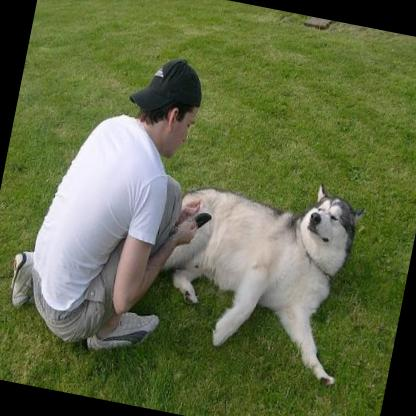malamute: (148, 156, 370, 387)
